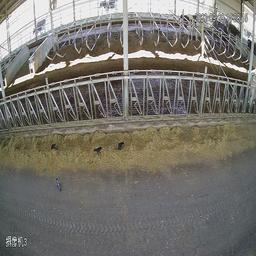cow: (178, 13, 204, 42), (216, 20, 230, 46), (229, 18, 240, 37)
